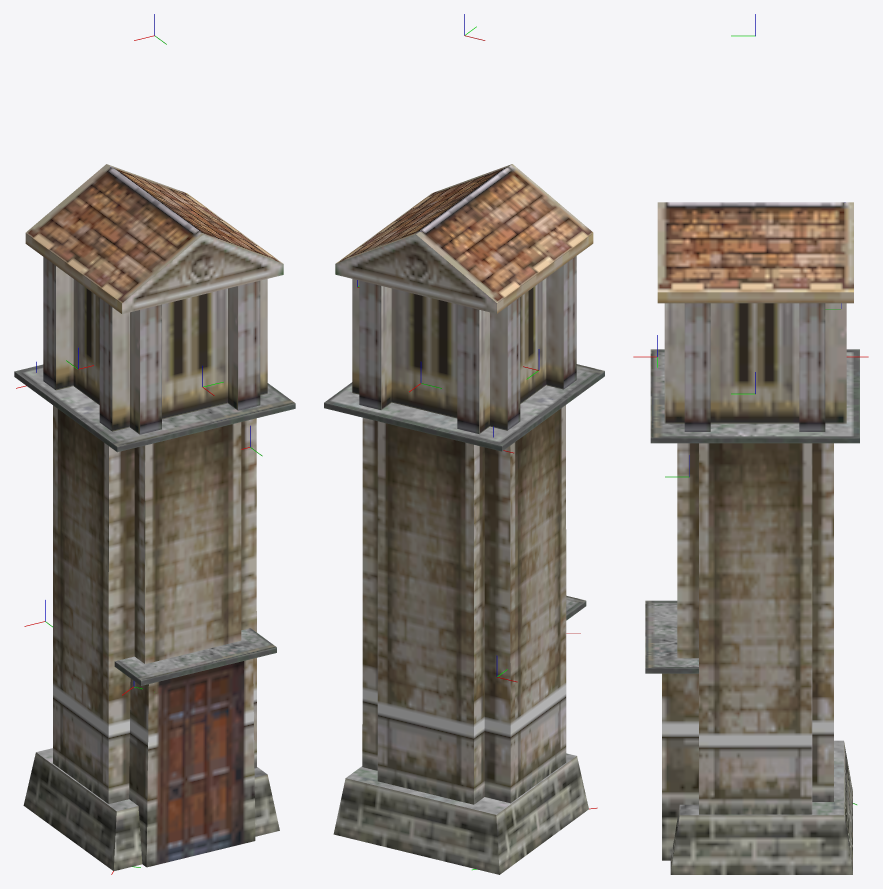
The model's file is greek-tower.glb.
3 renders of one model, left to right at view 1: azimuth 30°, elevation 25°; view 2: azimuth 150°, elevation 25°; view 3: azimuth 270°, elevation 25°, orthographic.
Parts seen in each view (by area): view 1: building g watchtowerModel; view 2: building g watchtowerModel; view 3: building g watchtowerModel.
Boxes of the visible parts, left/top/right/bottom form: building g watchtowerModel: left=14, top=164, right=295, bottom=870; building g watchtowerModel: left=324, top=164, right=604, bottom=874; building g watchtowerModel: left=645, top=202, right=859, bottom=874.
Bounding box in the file's own units: 2.2 × 9.25 × 2.41.
3 materials, 2 textured.
